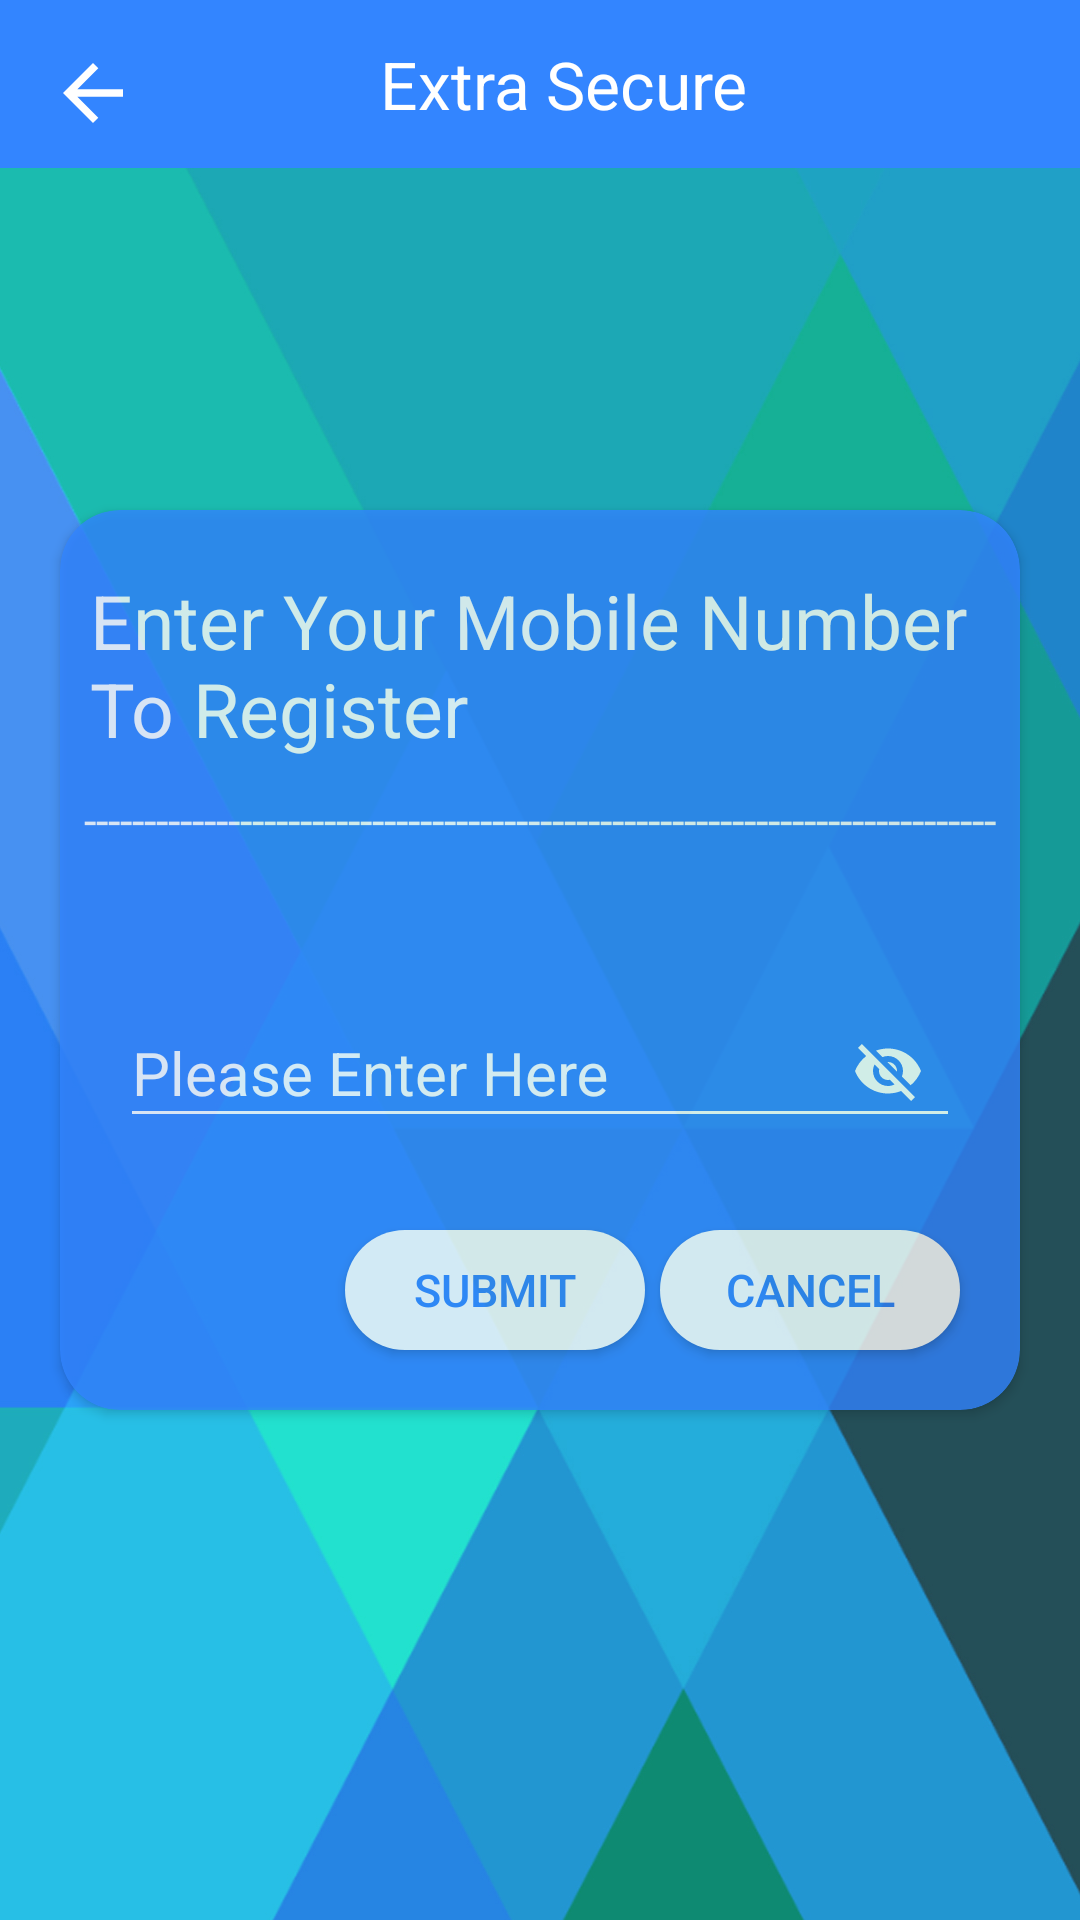

Where icons sit on this 1080w x 1920h app screen, as (x1, y1, x2, y2):
arrow back: (63, 63, 123, 123)
